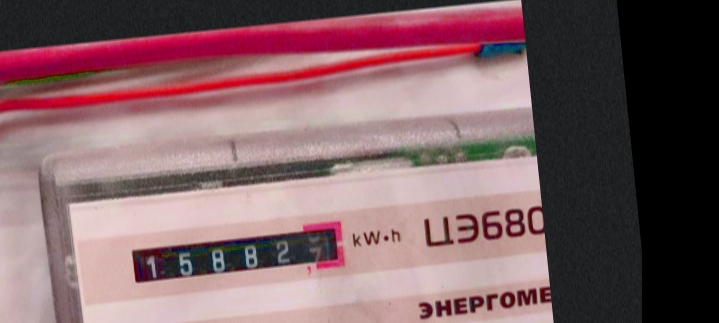1: (142, 253, 159, 282)
2: (272, 239, 291, 268)
5: (174, 251, 194, 279)
7: (305, 246, 323, 264)
8: (207, 247, 225, 277), (240, 243, 258, 273)
screen: (115, 214, 355, 299)
